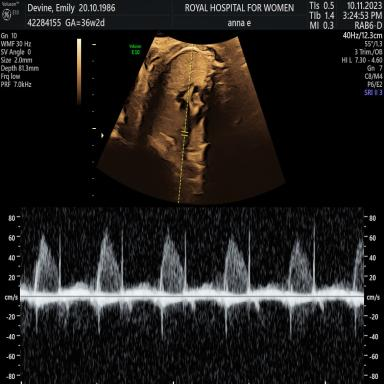Ultrasound-Waves: (28, 207, 360, 384)
